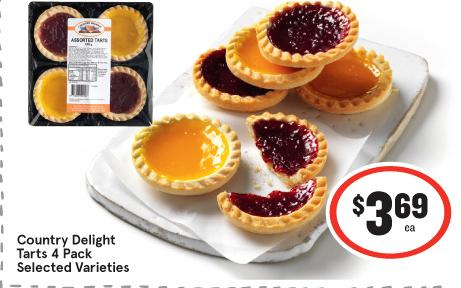description_block: (8, 221, 141, 281)
price_main: (346, 172, 443, 252)
product_image_block: (23, 0, 303, 216)
